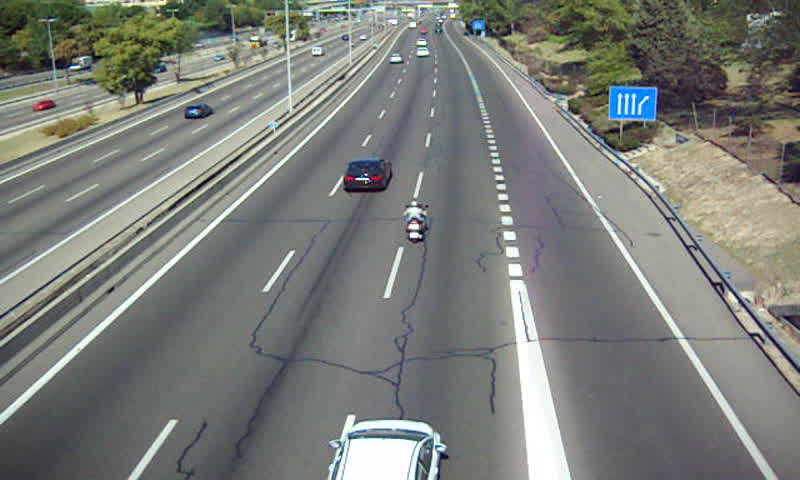car: (328, 418, 441, 480), (342, 157, 394, 192)
motorcycle: (402, 200, 429, 245)
